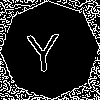Y: (25, 25, 61, 72)
